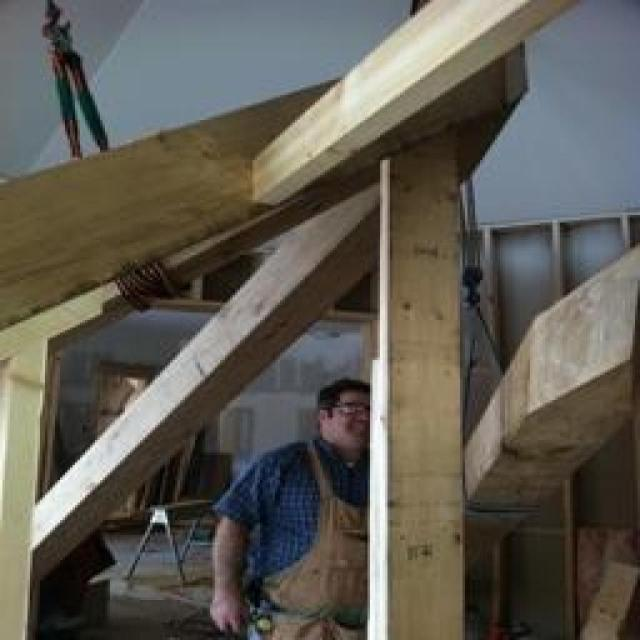Helmet: (227, 440, 372, 640), (312, 369, 384, 484)
